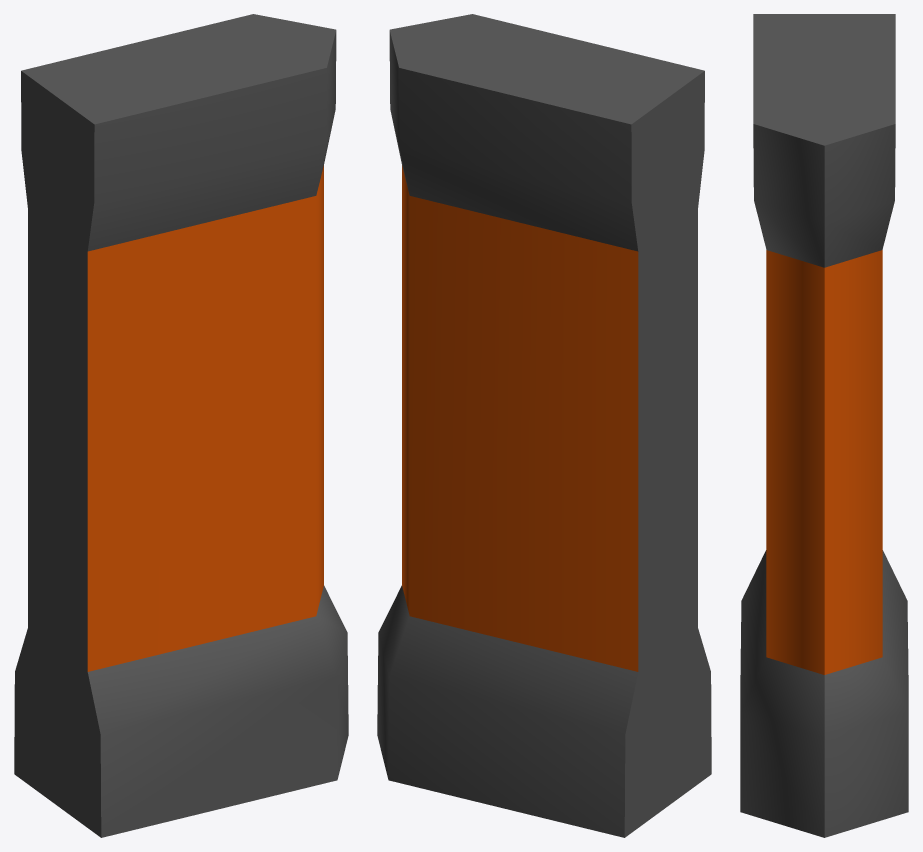
File: env_ruin_pillar_05_lod1.fbx
3 views of the same model, side by side, from view 1: azimuth 30°, elevation 25°; view 2: azimuth 150°, elevation 25°; view 3: azimuth 270°, elevation 25° (orthographic). The views are drawn at different scales.
Parts seen in each view (by area): view 1: env_ruin_pillar_05_lod1.002; view 2: env_ruin_pillar_05_lod1.002; view 3: env_ruin_pillar_05_lod1.002.
Boxes of the visible parts, x1=… form: env_ruin_pillar_05_lod1.002: x1=14, y1=14, x2=348, y2=837; env_ruin_pillar_05_lod1.002: x1=377, y1=14, x2=711, y2=837; env_ruin_pillar_05_lod1.002: x1=740, y1=14, x2=908, y2=837.
Bounding box in the file's own units: 12.25 × 28.5 × 6.35.
